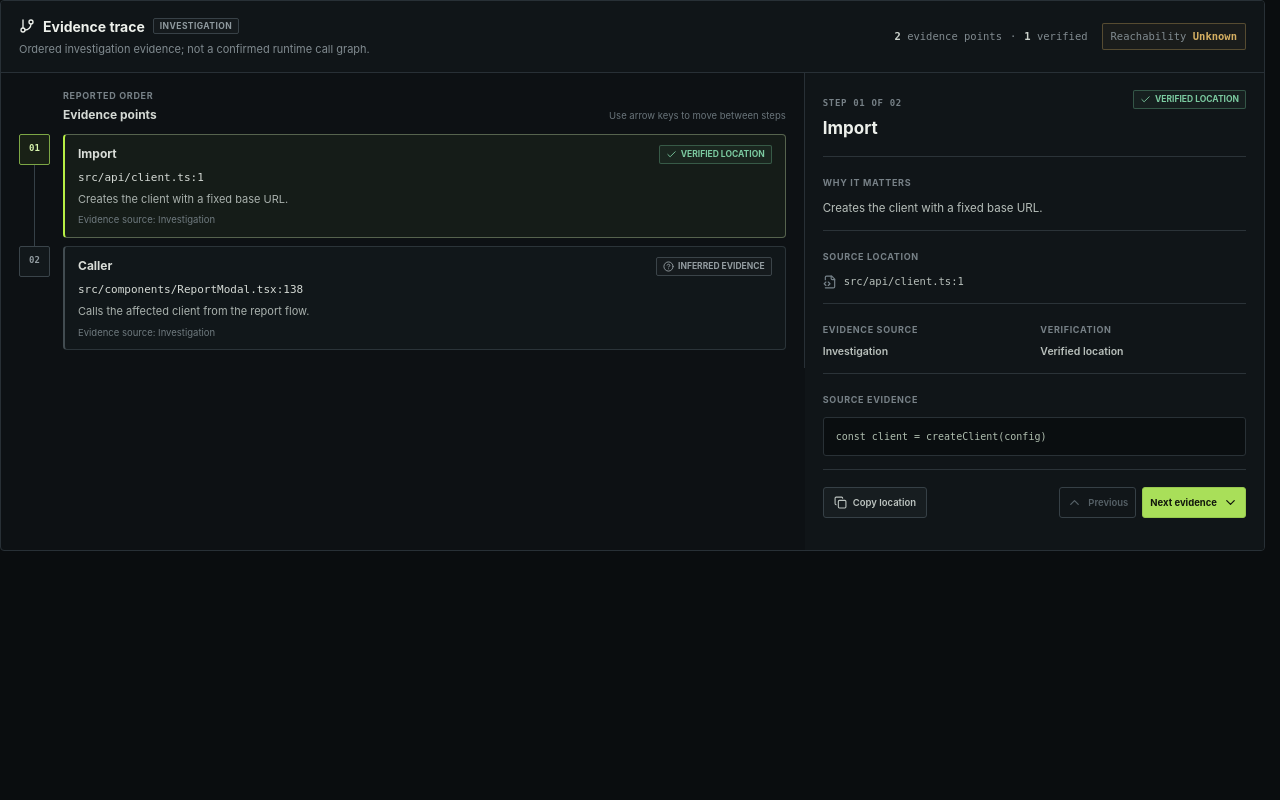
Test: EvidenceTrace › selects evidence manually and respects Previous/Next boundaries
Expected: the heading "import" is shown, [823,118,878,138]
Click the button with aria-label "Next evidence": point(1194, 503) [1142,487,1246,518]
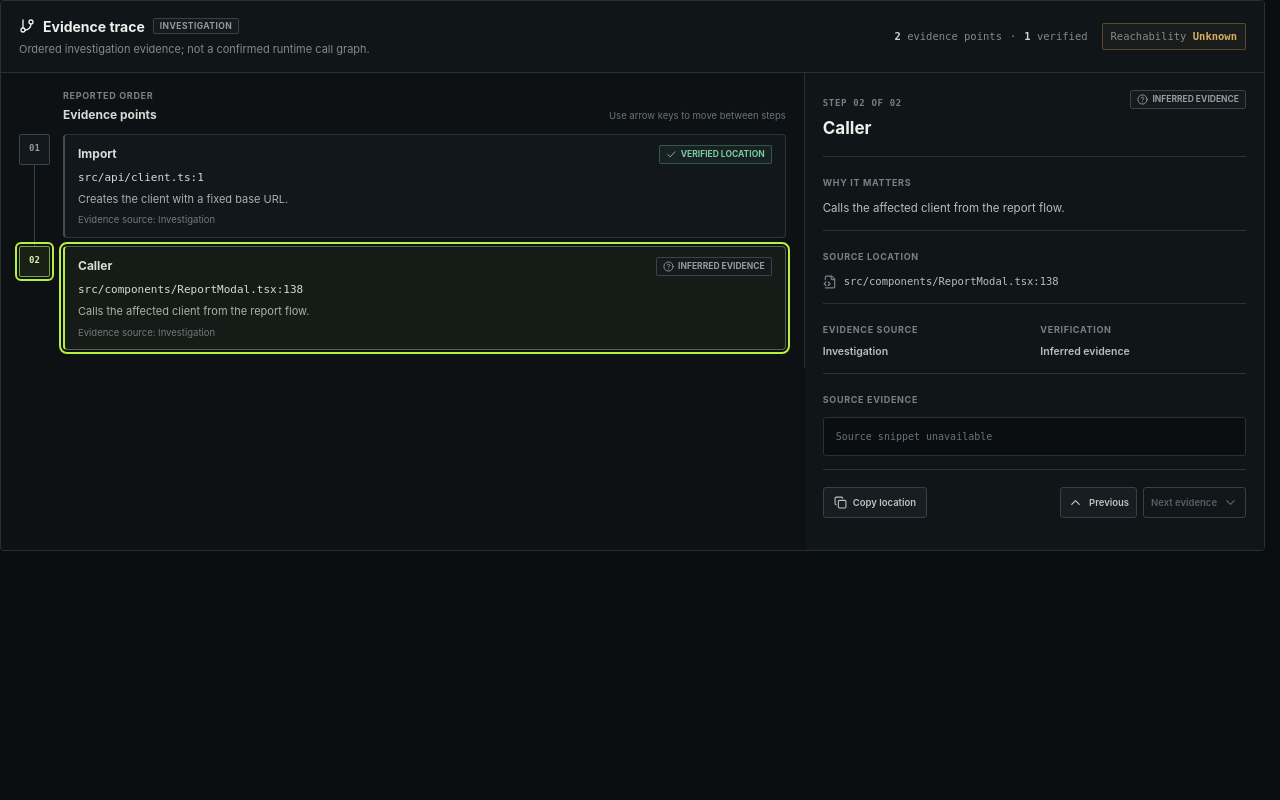
Expected: the heading "caller" is shown, [823,118,871,138]
Click the button with aria-label "Previous evidence": point(1098, 503) [1060,487,1137,518]
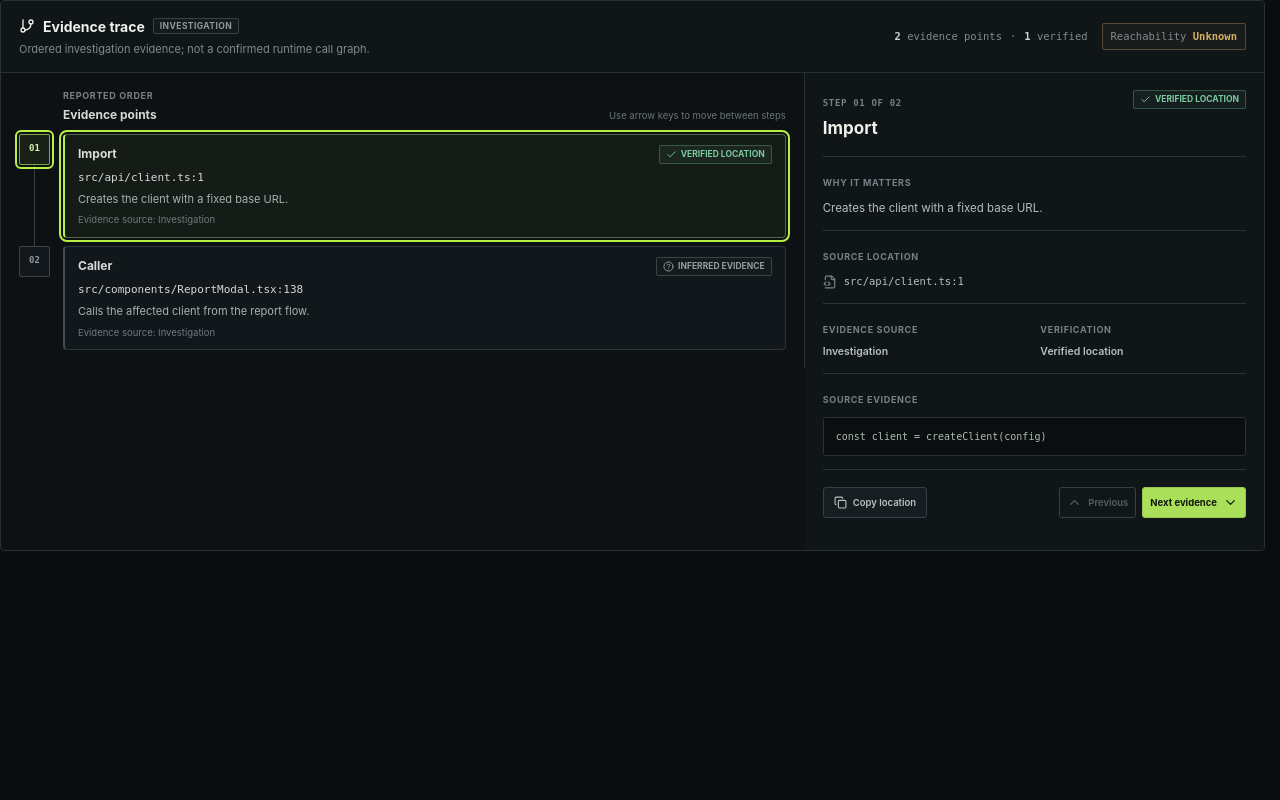
Expected: the heading "import" is shown, [823,118,878,138]
